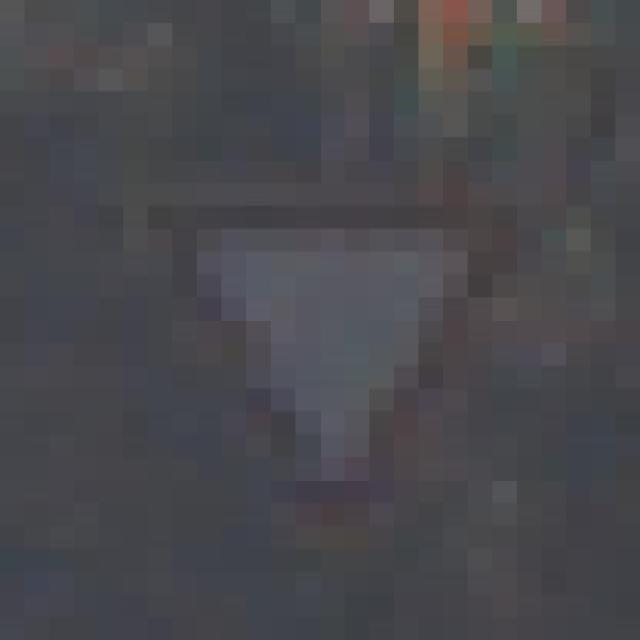Give Way: (123, 137, 566, 572)
